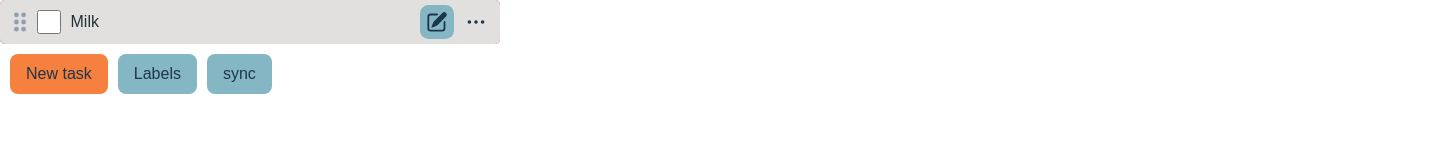
Test case: shows a banner when the backend rejects an op
Click the checkbox at (48, 22), box [36, 10, 60, 34]
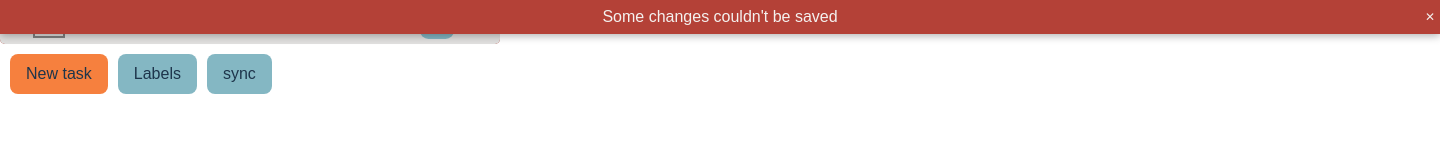
Expected: the text "Some changes couldn't be saved" is shown, [602, 8, 838, 25]
